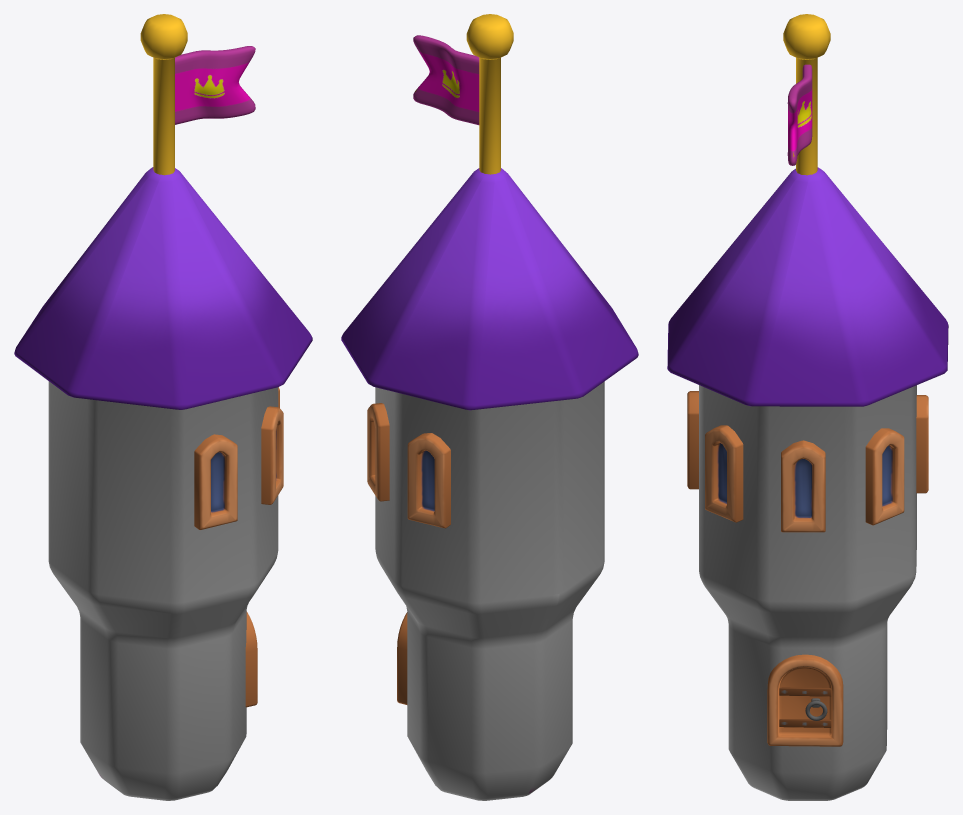
File: flag tower.fbx
The picture shows the model from 3 angles, left to right: view 1: azimuth 30°, elevation 25°; view 2: azimuth 150°, elevation 25°; view 3: azimuth 270°, elevation 25°; orthographic projection.
Visible parts, largest first — view 1: flag tower, flag tower flag; view 2: flag tower, flag tower flag; view 3: flag tower, flag tower flag.
Part boxes in pixels (box(x1,y1,x2,y2)): flag tower: box(14, 14, 312, 800); flag tower flag: box(175, 46, 255, 124); flag tower: box(341, 14, 638, 800); flag tower flag: box(413, 35, 479, 125); flag tower: box(667, 14, 948, 800); flag tower flag: box(787, 64, 812, 165).
Size of the model in its own units: 641 by 1910 by 641.
Materials: 2 (1 with a texture image).
